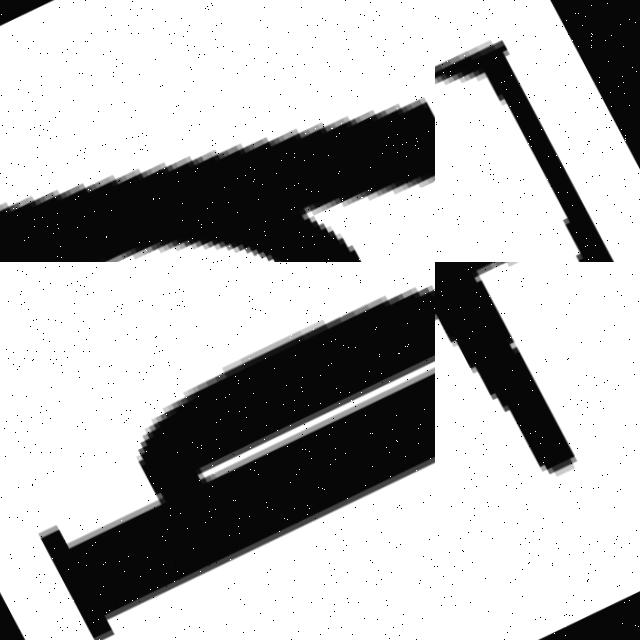7: (435, 0, 640, 262)
B: (0, 92, 435, 262)
Q: (0, 262, 435, 640)
T: (435, 262, 640, 624)
